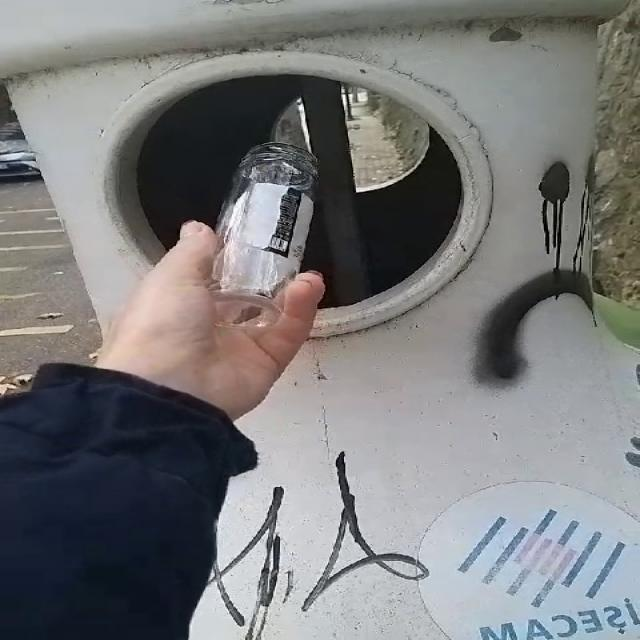glass: (211, 142, 317, 328)
